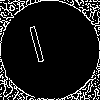I: (25, 25, 51, 73)
